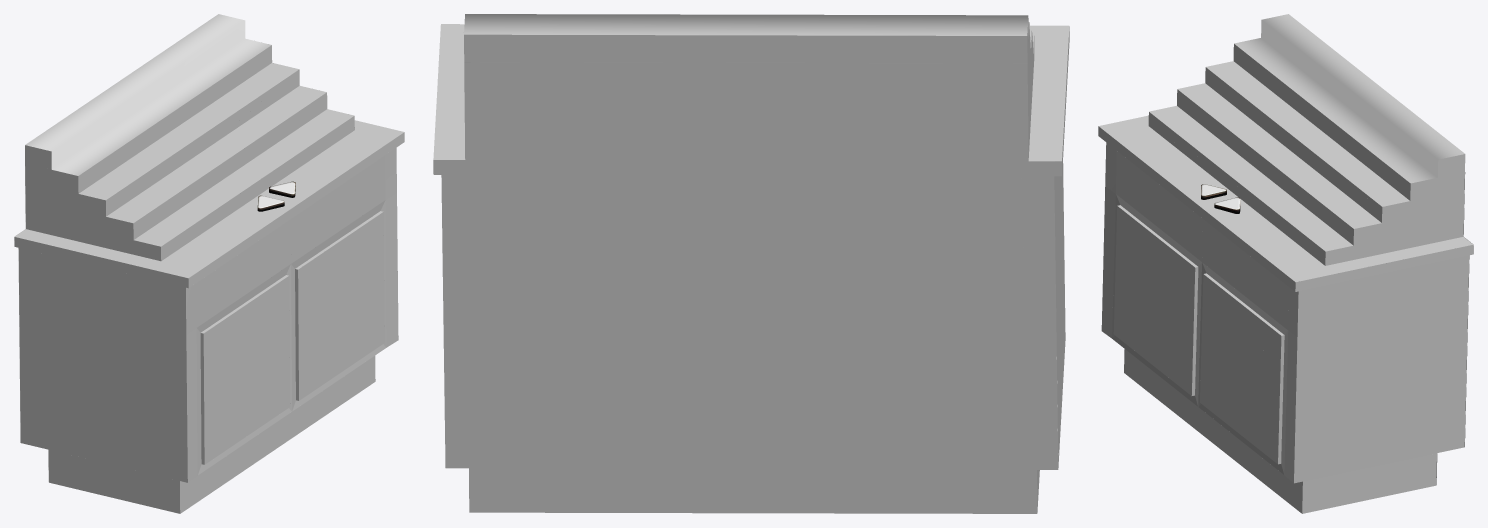
Rendered from stand2.glb.
3 renders of one model, left to right at view 1: azimuth 30°, elevation 25°; view 2: azimuth 150°, elevation 25°; view 3: azimuth 270°, elevation 25°, orthographic. The views are drawn at different scales.
Parts seen in each view (by area): view 1: CandleHolder.021, CandleHolder.056, CandleHolder.073, CandleHolder.009, CandleHolder.042, CandleHolder.074, CandleHolder.075, CandleHolder.020, CandleHolder.044, CandleHolder.050, CandleHolder.055, CandleHolder.036 (+25 smaller); view 2: CandleHolder.023, CandleHolder.001, CandleHolder.056, CandleHolder.034, CandleHolder.009, CandleHolder.005, CandleHolder.021, CandleHolder.024; view 3: CandleHolder.010, CandleHolder.056, CandleHolder.073, CandleHolder.009, CandleHolder.043, CandleHolder.075, CandleHolder.074, CandleHolder.050, CandleHolder.044, CandleHolder.055, CandleHolder.020, CandleHolder.035 (+26 smaller).
Part boxes in pixels (box(x1,y1,x2,y2)): CandleHolder.021: box(18, 248, 187, 482); CandleHolder.056: box(25, 14, 271, 175); CandleHolder.073: box(203, 276, 290, 464); CandleHolder.009: box(14, 130, 393, 278); CandleHolder.042: box(25, 163, 161, 261); CandleHolder.074: box(298, 212, 383, 400); CandleHolder.075: box(299, 212, 384, 400); CandleHolder.020: box(180, 356, 375, 513); CandleHolder.044: box(134, 109, 353, 246); CandleHolder.050: box(106, 86, 326, 223); CandleHolder.055: box(79, 63, 298, 200); CandleHolder.036: box(48, 450, 180, 513); CandleHolder.023: box(441, 175, 1058, 469); CandleHolder.001: box(433, 62, 1061, 176); CandleHolder.056: box(464, 14, 1029, 63); CandleHolder.034: box(469, 468, 1037, 513); CandleHolder.009: box(1028, 25, 1069, 161); CandleHolder.005: box(433, 59, 465, 159); CandleHolder.021: box(1054, 161, 1065, 467); CandleHolder.024: box(1021, 176, 1053, 248); CandleHolder.010: box(1294, 255, 1469, 483); CandleHolder.056: box(1234, 14, 1465, 183); CandleHolder.073: box(1113, 206, 1195, 395); CandleHolder.009: box(1098, 115, 1324, 274); CandleHolder.043: box(1325, 172, 1464, 265); CandleHolder.075: box(1200, 336, 1281, 463); CandleHolder.074: box(1200, 274, 1280, 401); CandleHolder.050: box(1177, 83, 1381, 228); CandleHolder.044: box(1149, 105, 1352, 251); CandleHolder.055: box(1206, 61, 1409, 206); CandleHolder.020: box(1124, 349, 1302, 513); CandleHolder.035: box(1302, 453, 1436, 513).
Size of what is drawn, in the model's own units: 0.7284 by 0.5776 by 0.5961.
2 materials, 1 textured.
